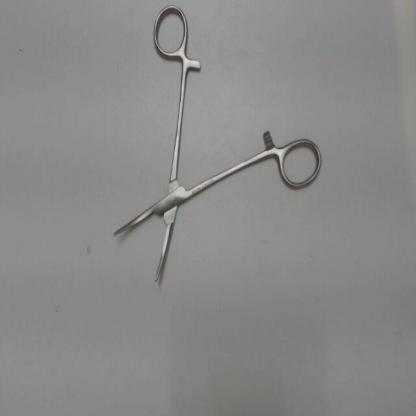Crile Artery Forceps: (107, 4, 325, 290)
